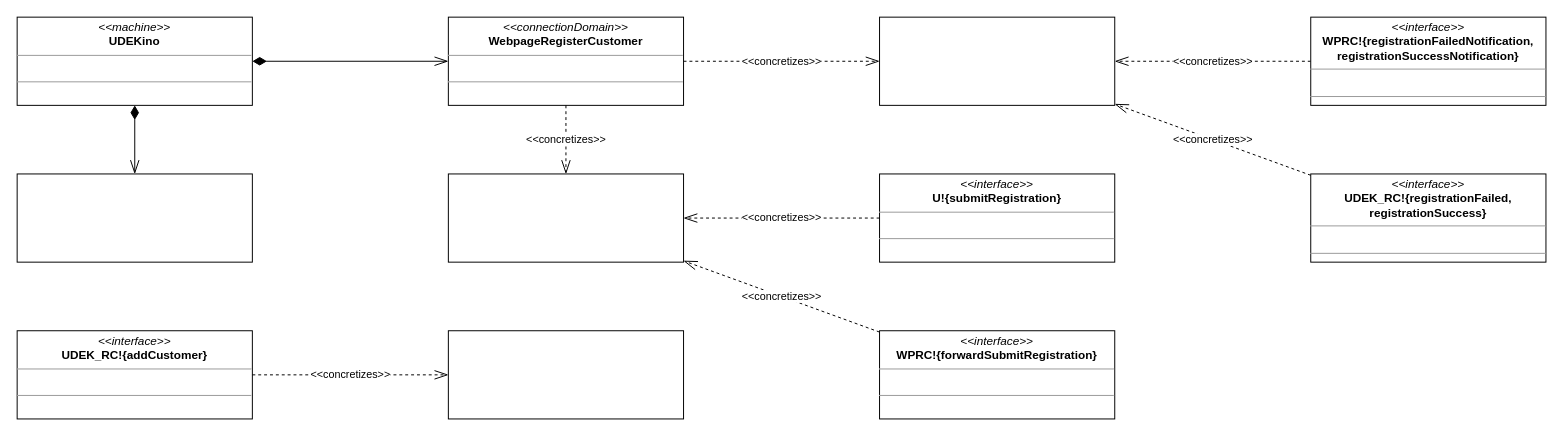
Some shapes in this 1563 by 436 pixel diagram are drawn without their labels. Here are the shapes that lost their labels. From the top down, the centre of each, then its label:
At point 997,60: "<<interface>> UDEK!{uShowWebsite}".
At point 134,217: "<<machine>> UDEK_RegisterCustomer".
At point 565,217: "<<interface>> U!{uBrowse, cLogin, cRegister, sLogin}".
At point 565,374: "<<interface>> UDEK!{addCustomer}".
